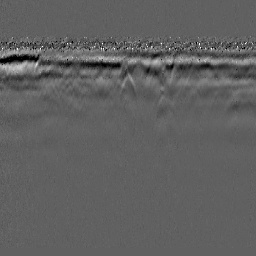cavity: (119, 73, 137, 99)
